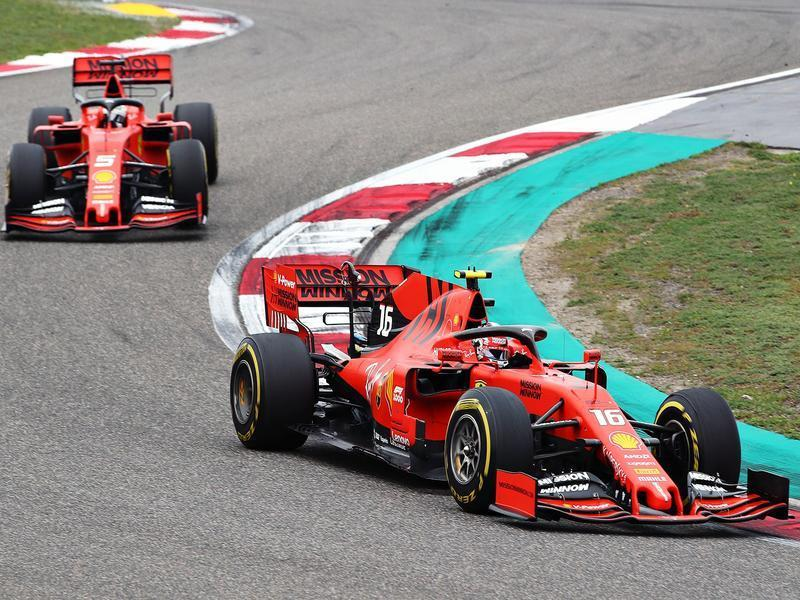f1: (232, 254, 788, 535), (6, 32, 226, 250)
